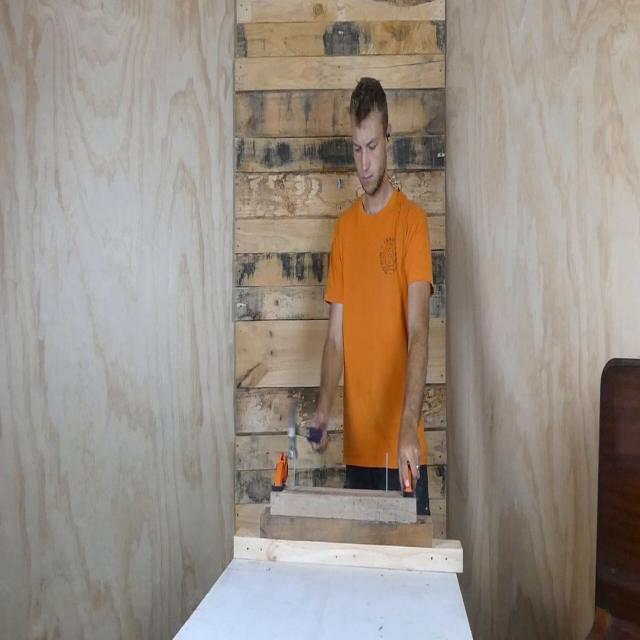hammer: (287, 404, 323, 462)
